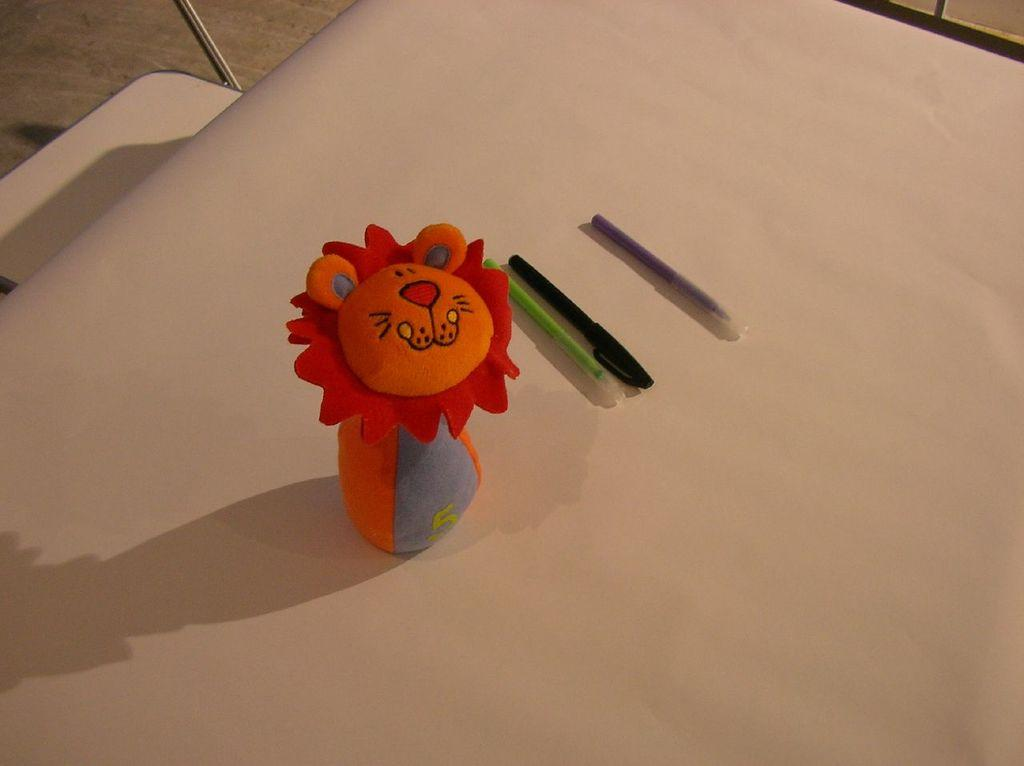pen: (507, 250, 658, 399), (481, 262, 627, 405), (592, 212, 752, 339)
